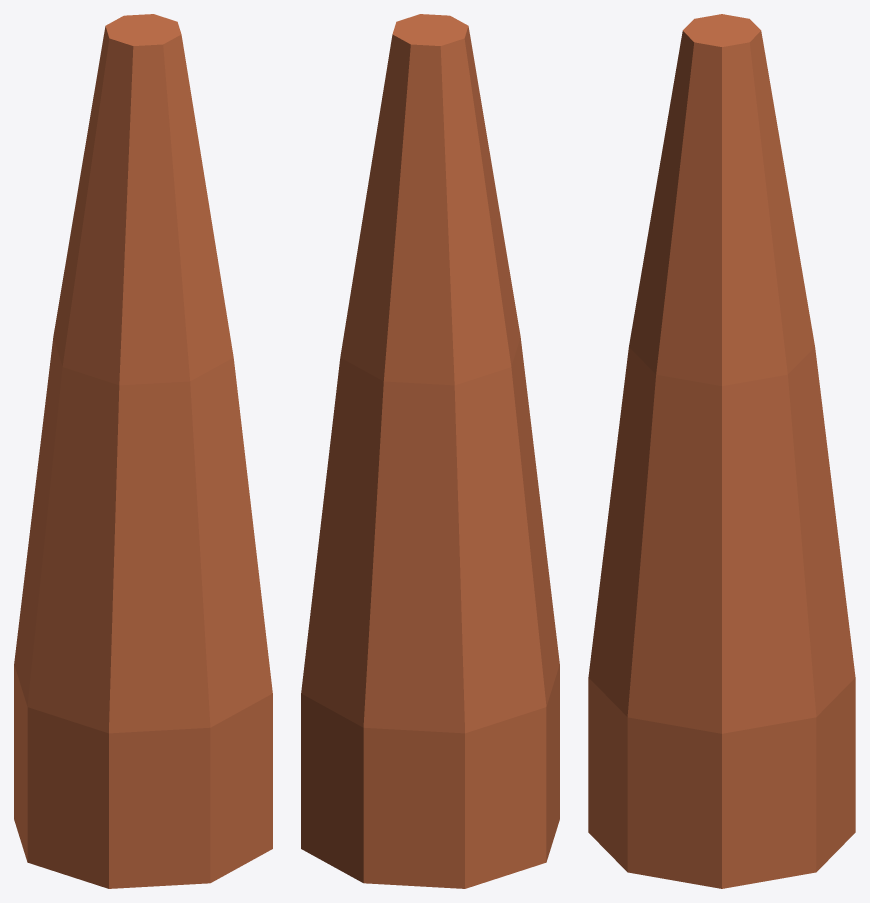
Rendered from BLT-762.fbx.
The picture shows the model from 3 angles, left to right: view 1: azimuth 30°, elevation 25°; view 2: azimuth 150°, elevation 25°; view 3: azimuth 270°, elevation 25°; orthographic projection.
Parts seen in each view (by area): view 1: Cylinder.007; view 2: Cylinder.007; view 3: Cylinder.007.
Part boxes in pixels (<box>): Cylinder.007: <box>14,14,272,888</box>; Cylinder.007: <box>301,14,559,888</box>; Cylinder.007: <box>588,14,855,888</box>.
Size of the model in its own units: 16.76 by 55.52 by 16.76.
